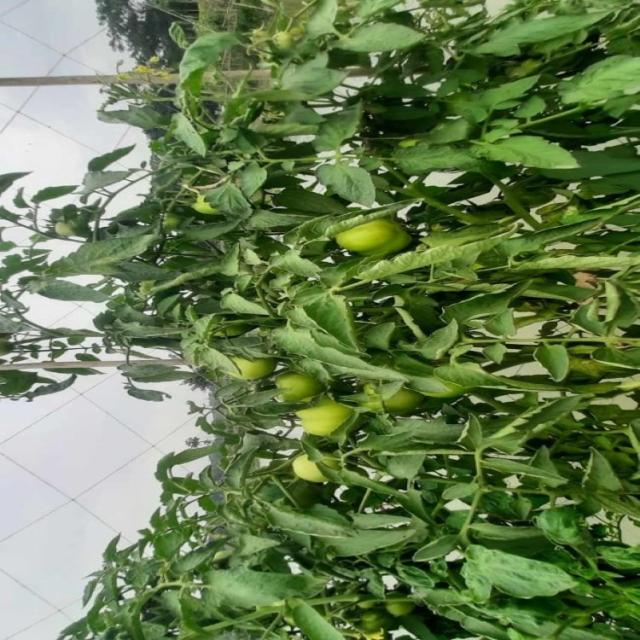tomato: (331, 213, 411, 263), (293, 393, 360, 436), (269, 365, 331, 411), (376, 382, 442, 420), (225, 347, 274, 394), (286, 452, 334, 493), (380, 585, 411, 622), (192, 183, 216, 218), (52, 213, 76, 240)
